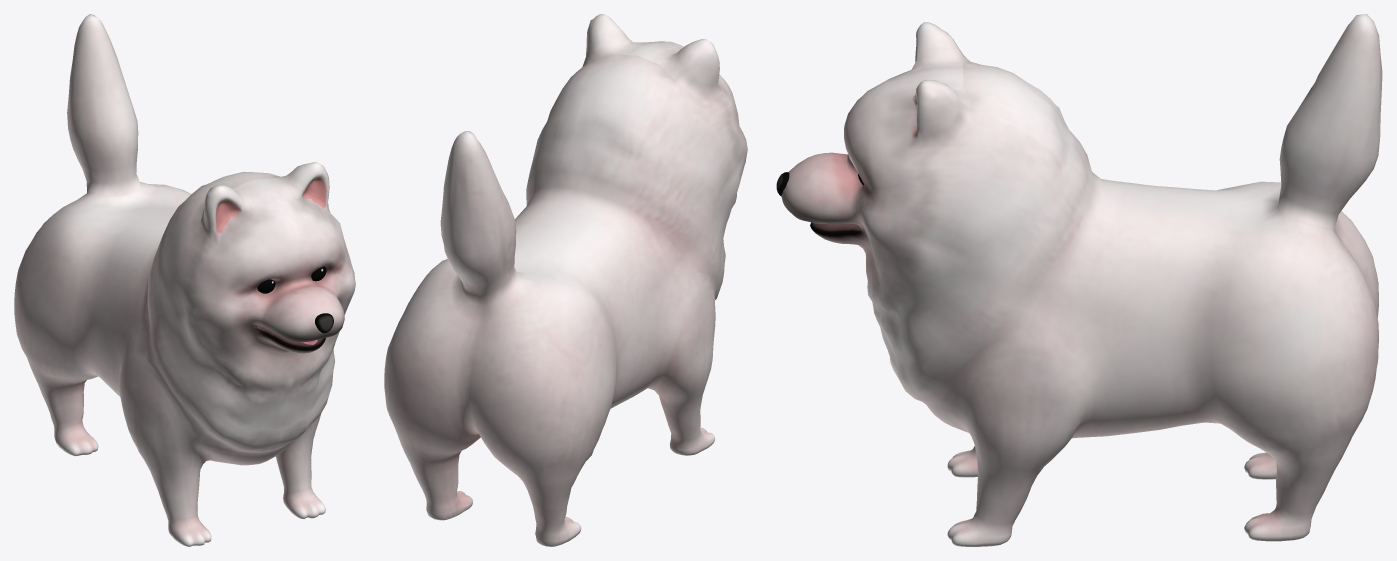
The model's file is pomeranian.glb.
3 renders of one model, left to right at view 1: azimuth 30°, elevation 25°; view 2: azimuth 150°, elevation 25°; view 3: azimuth 270°, elevation 25°, orthographic. The views are drawn at different scales.
Visible parts, largest first — view 1: pome_low:Group2; view 2: pome_low:Group2; view 3: pome_low:Group2.
Part boxes in pixels (x1,y1,x2,y2): pome_low:Group2: (14,14,355,546); pome_low:Group2: (384,14,747,546); pome_low:Group2: (781,14,1382,546).
Bounding box in the file's own units: 0.1831 × 0.3652 × 0.4079.
1 material, 1 textured.
